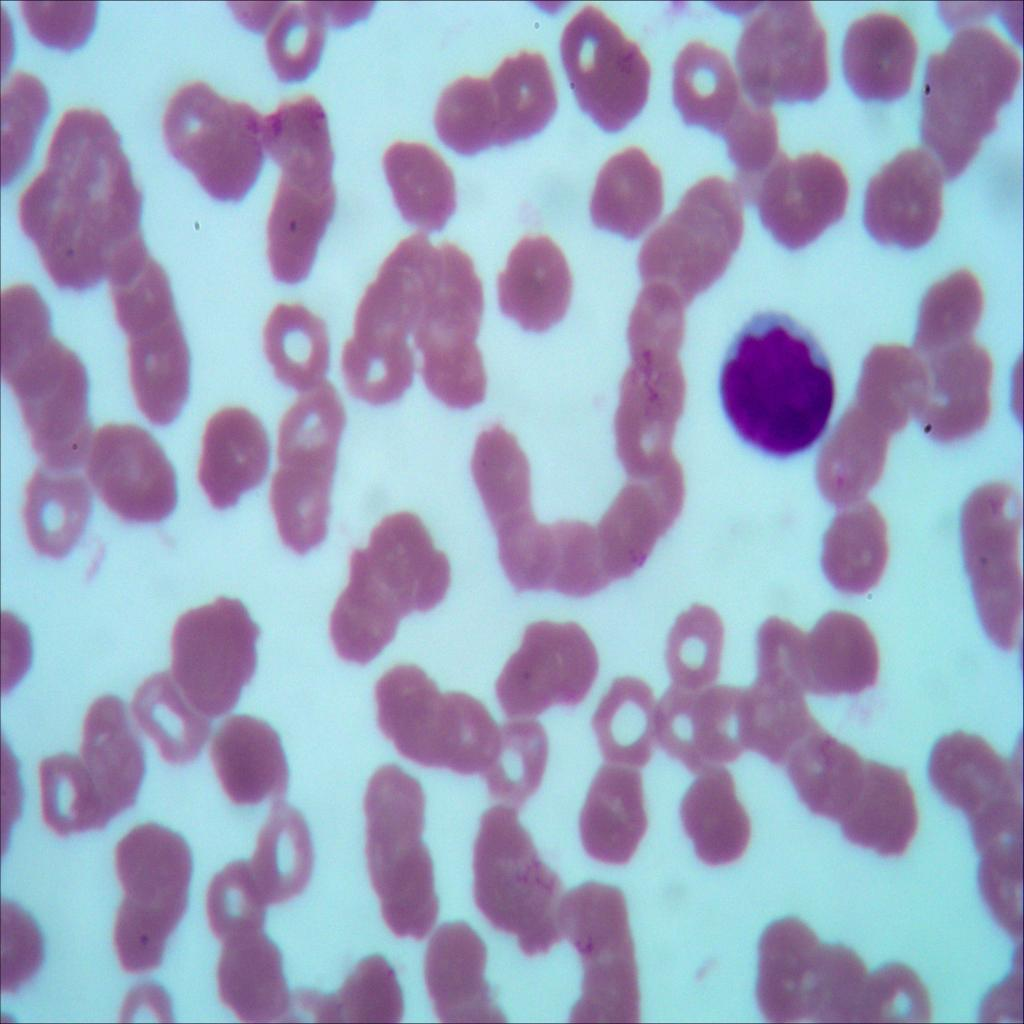Limfoblast: (712, 298, 842, 456)
